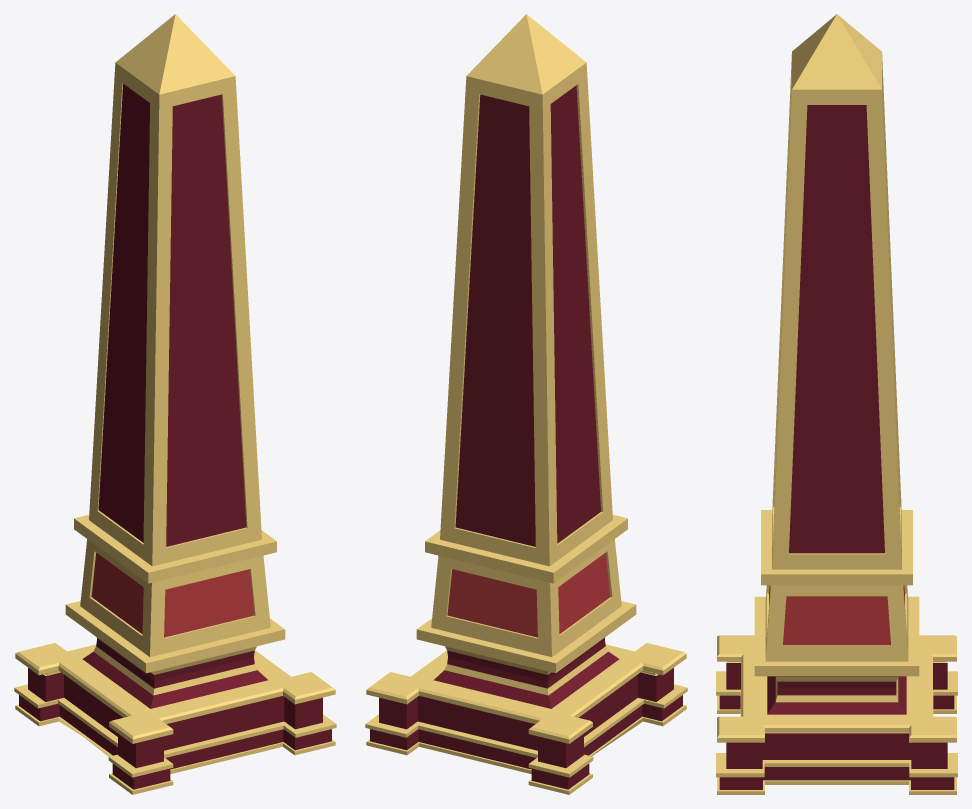
Rendered from statue_001_grp.fbx.
3 views of the same model, side by side, from view 1: azimuth 30°, elevation 25°; view 2: azimuth 150°, elevation 25°; view 3: azimuth 270°, elevation 25° (orthographic). The views are drawn at different scales.
Visible parts, largest first — view 1: statue_001_grp; view 2: statue_001_grp; view 3: statue_001_grp.
Boxes of the visible parts, x1,y1,x2,y2 form: statue_001_grp: (14,14,336,794); statue_001_grp: (365,14,687,794); statue_001_grp: (716,14,957,794).
Bounding box in the file's own units: 60 × 200 × 60.
